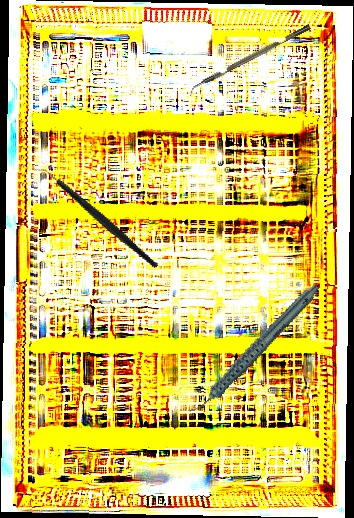Chopper: (30, 137, 160, 298), (185, 24, 315, 98)
Handpiece: (166, 283, 341, 416)
